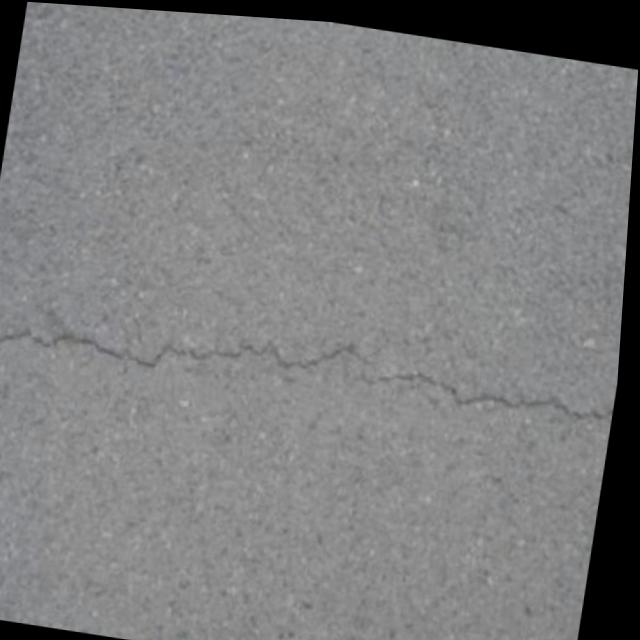Crack: (380, 357, 618, 422), (171, 313, 383, 385), (0, 317, 171, 372)
